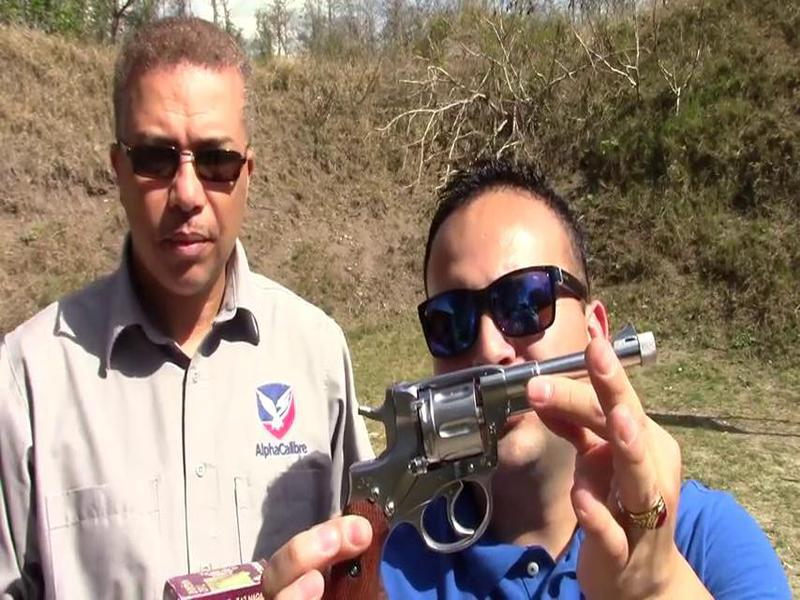Revolver: (275, 322, 694, 562)
